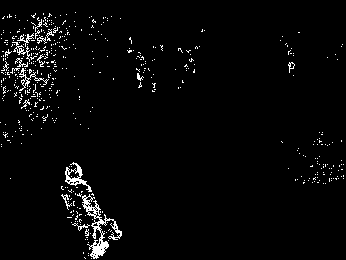person: (60, 161, 124, 260)
